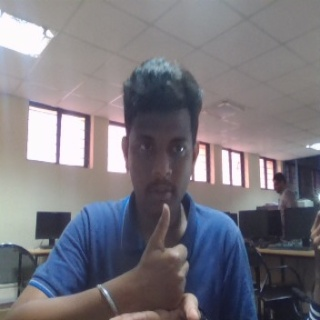Help: (102, 202, 205, 320)
